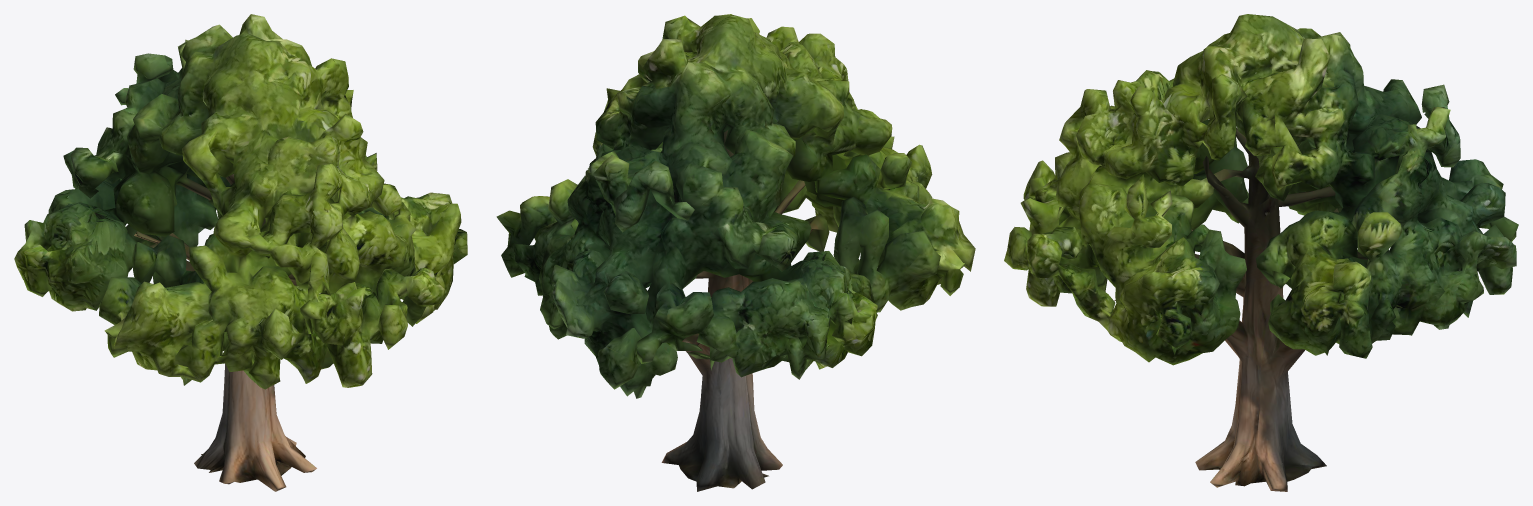
Rendered from tree1.fbx.
3 views of the same model, side by side, from view 1: azimuth 30°, elevation 25°; view 2: azimuth 150°, elevation 25°; view 3: azimuth 270°, elevation 25° (orthographic). The views are drawn at different scales.
Parts seen in each view (by area): view 1: tripo_node_70c0a7f8; view 2: tripo_node_70c0a7f8; view 3: tripo_node_70c0a7f8.
Boxes of the visible parts, x1=… form: tripo_node_70c0a7f8: x1=14, y1=14, x2=467, y2=491; tripo_node_70c0a7f8: x1=496, y1=14, x2=975, y2=491; tripo_node_70c0a7f8: x1=1004, y1=14, x2=1518, y2=491.
Size of the model in its own units: 0.8421 by 0.962 by 0.9934.
Materials: 1 (1 with a texture image).
